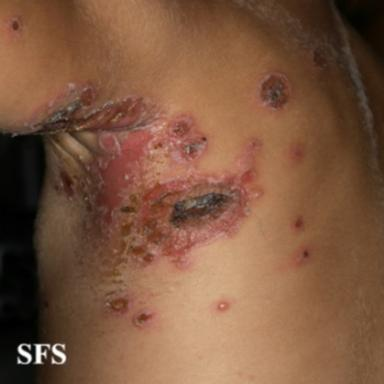Impetigo: (18, 78, 266, 316), (258, 72, 295, 114), (133, 308, 157, 327), (285, 141, 306, 162), (294, 247, 311, 265), (290, 214, 304, 234), (9, 16, 22, 33), (217, 301, 229, 311)
